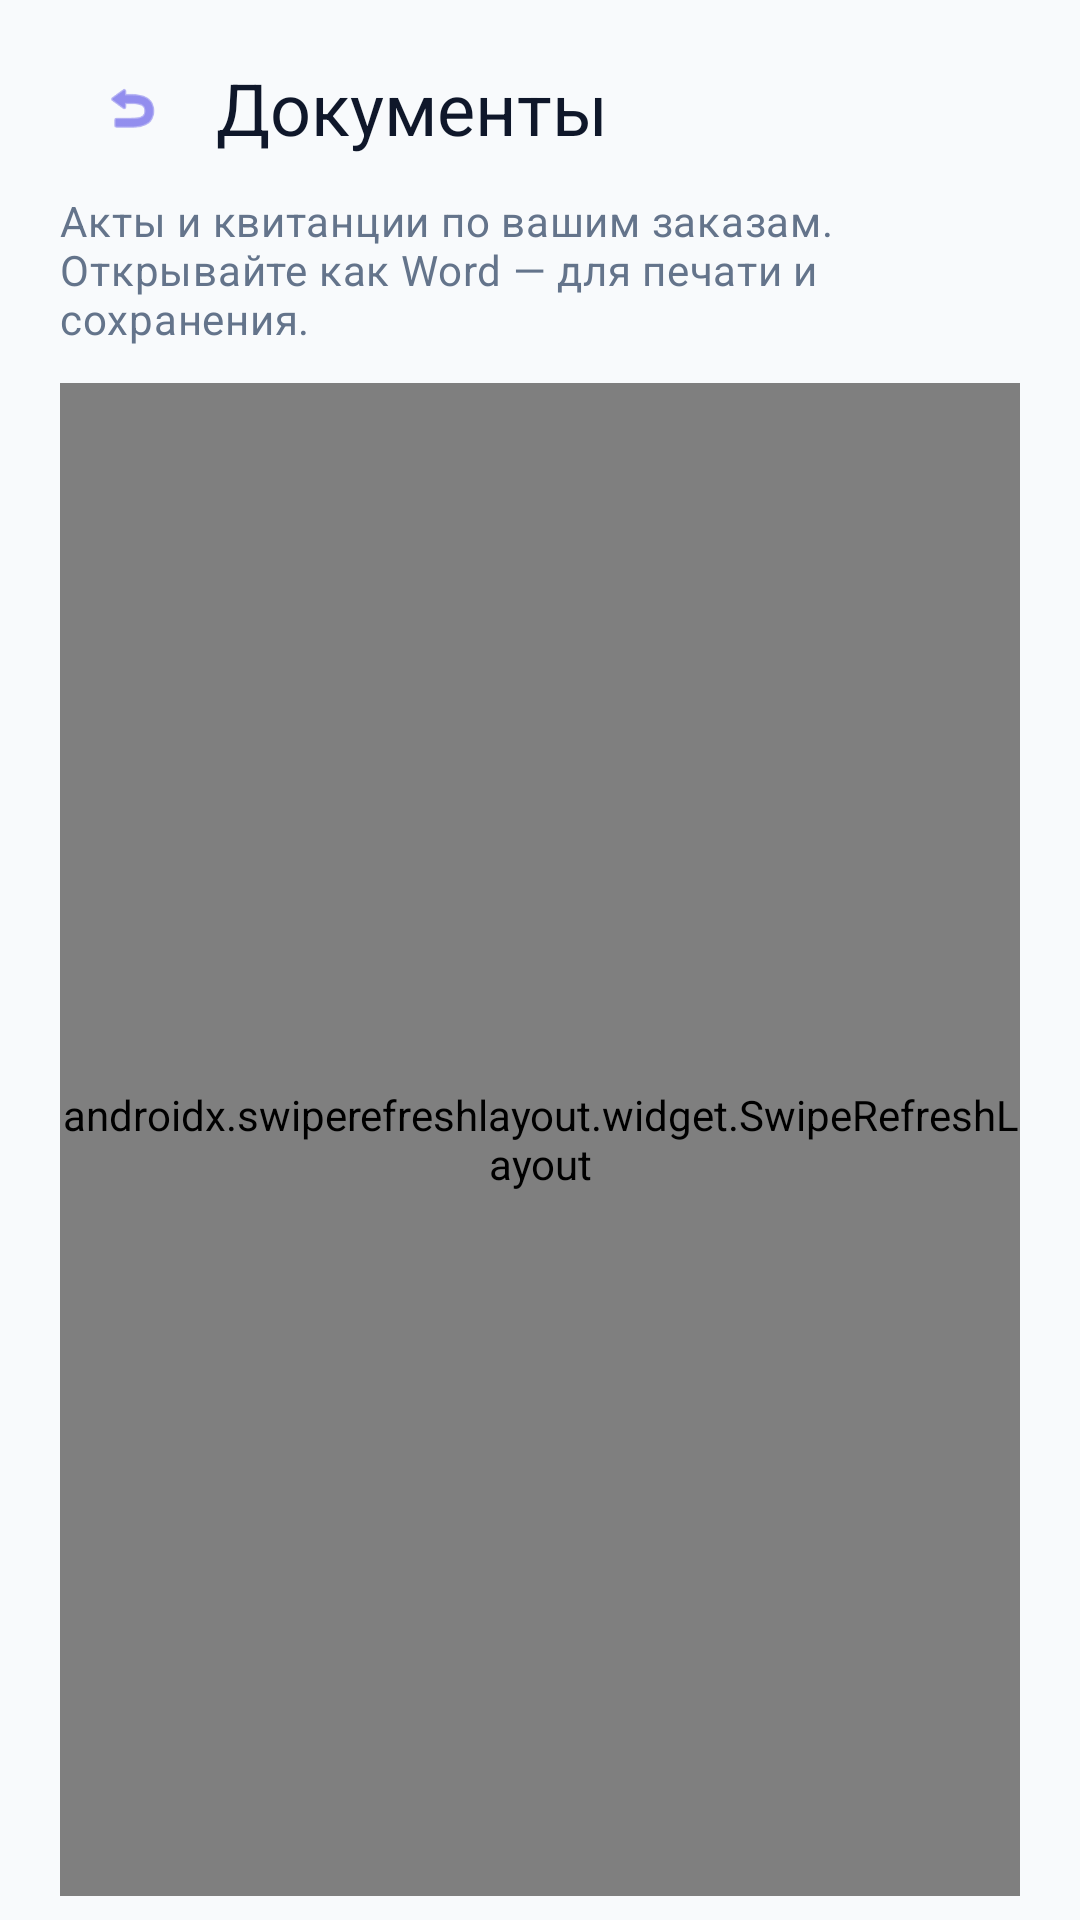

Where to tap for icons on this 1080w x 1920h app screen, as point (x, y):
Назад к категориям: point (132, 108)
